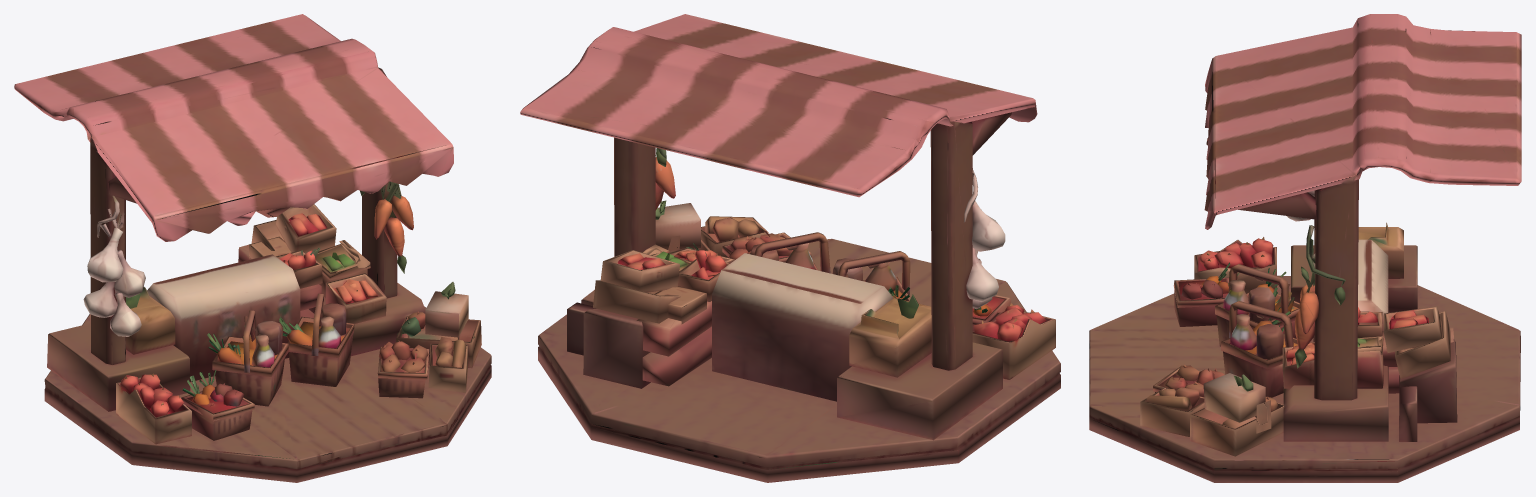
Rendered from exchangestand.fbx.
3 renders of one model, left to right at view 1: azimuth 30°, elevation 25°; view 2: azimuth 150°, elevation 25°; view 3: azimuth 270°, elevation 25°, orthographic. The views are drawn at different scales.
Parts seen in each view (by area): view 1: geometry_0; view 2: geometry_0; view 3: geometry_0.
Part boxes in pixels (bbox=[...]): geometry_0: bbox=[14, 14, 491, 482]; geometry_0: bbox=[520, 14, 1060, 482]; geometry_0: bbox=[1089, 14, 1521, 482].
Bounding box in the file's own units: 95.75 × 72.8 × 95.02.
1 material, 1 textured.
